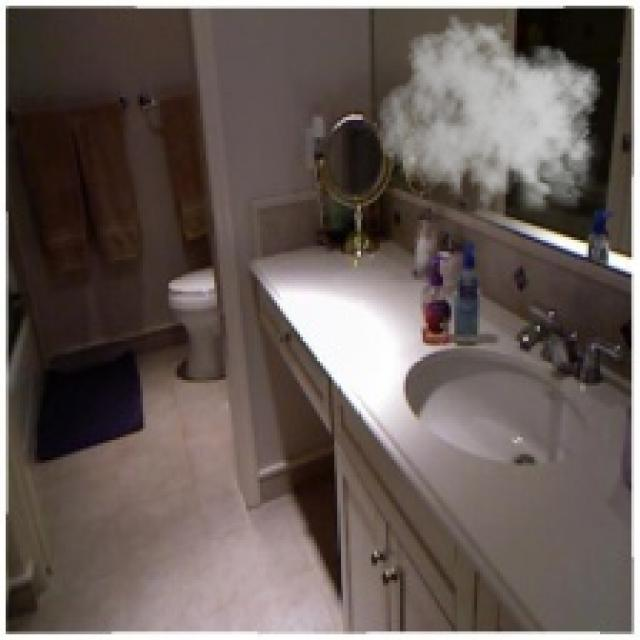smoke: (377, 14, 609, 223)
